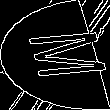M_E: (6, 28, 104, 82)
